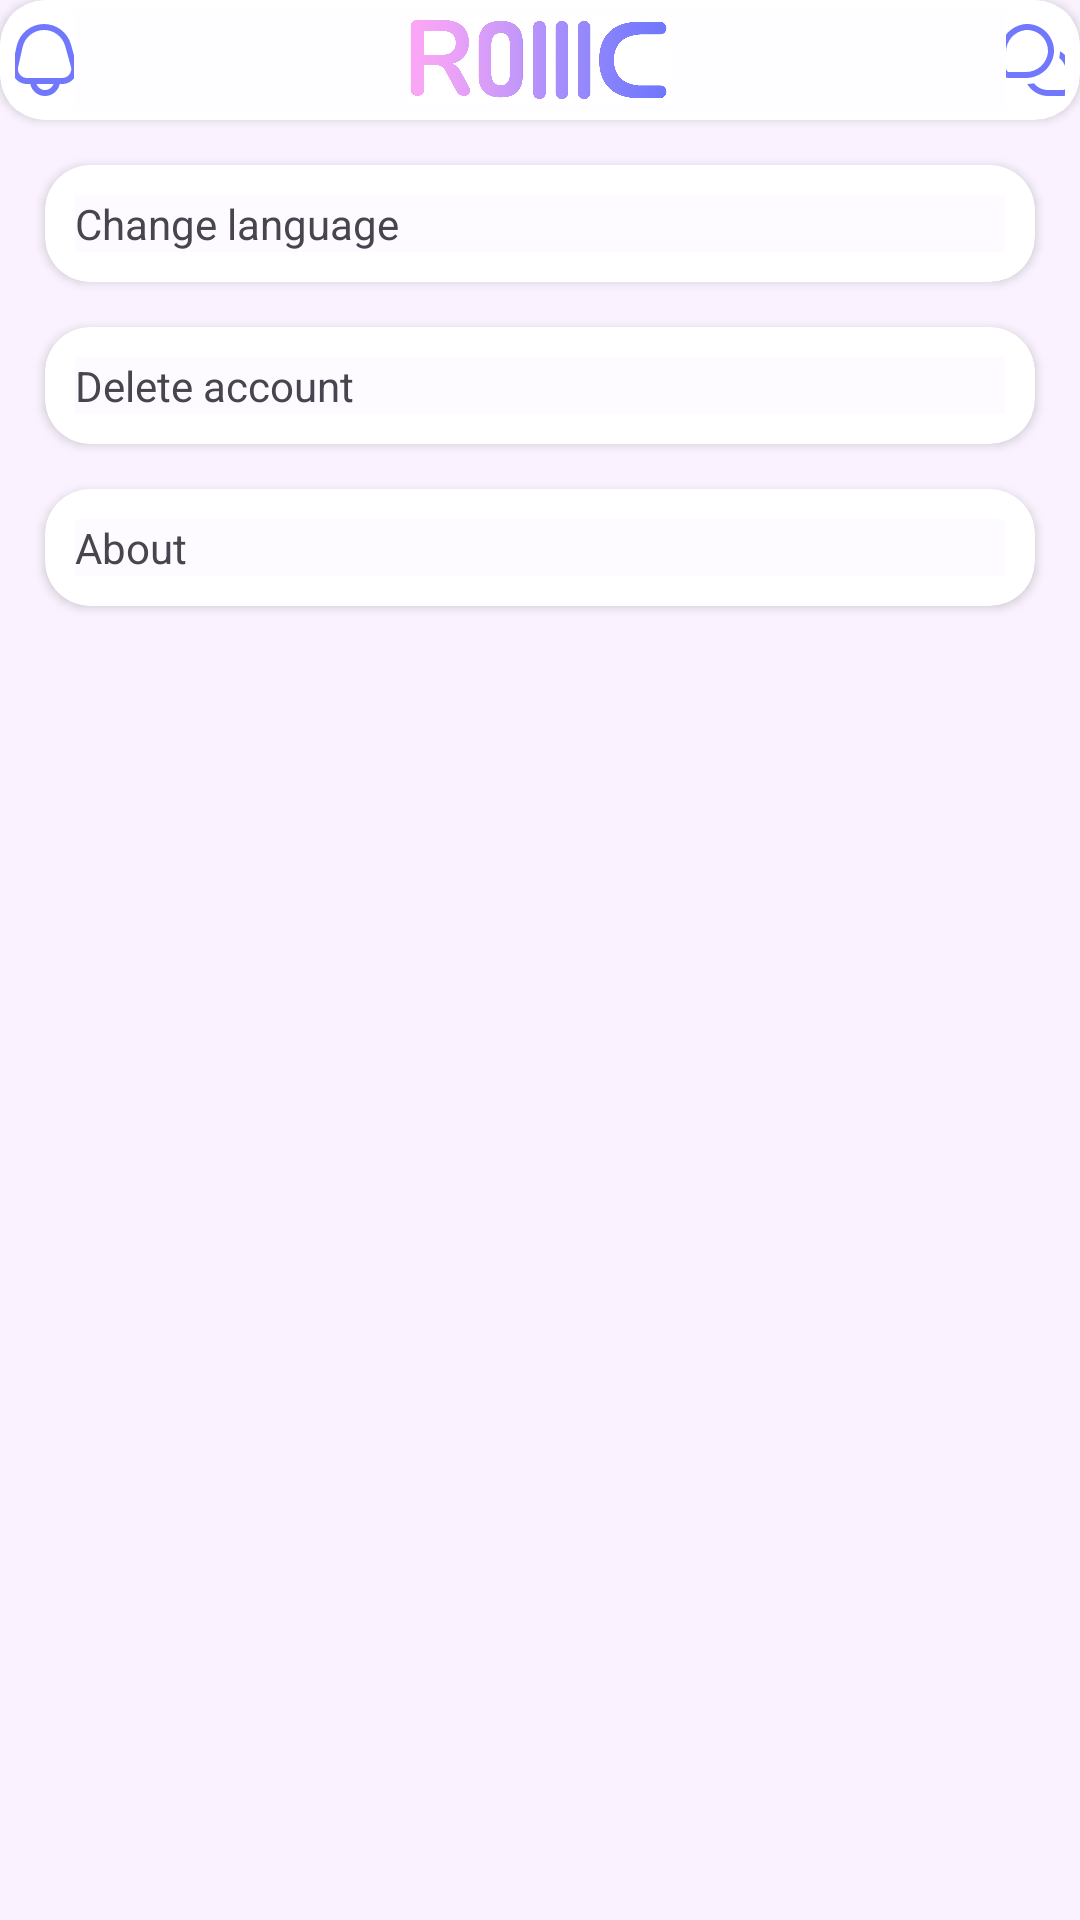

Screen size 1080px×1920px. Icon name, then its box in pixels as {"left": x1, "top": y1, "right": x2, "bottom": y2}:
Notifications: {"left": 15, "top": 24, "right": 74, "bottom": 96}
